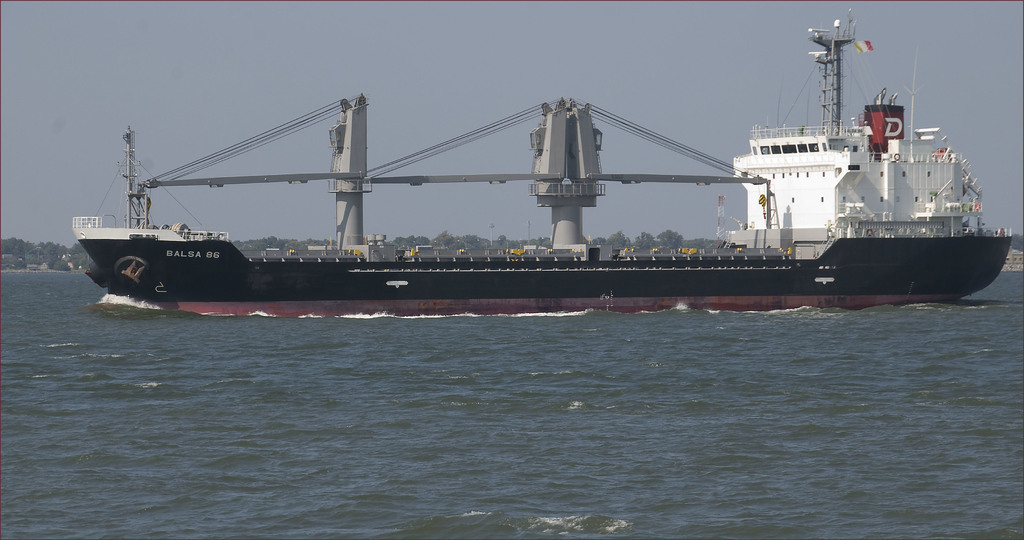boat: (55, 10, 1019, 329)
